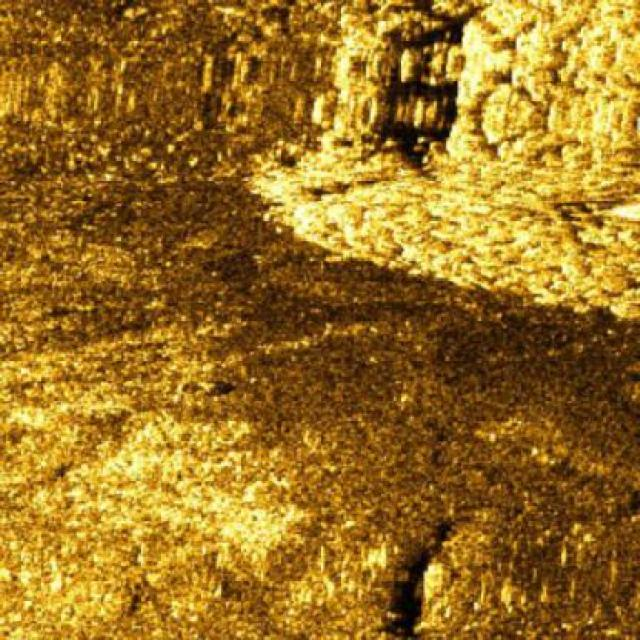bedrock group: (242, 0, 640, 325)
